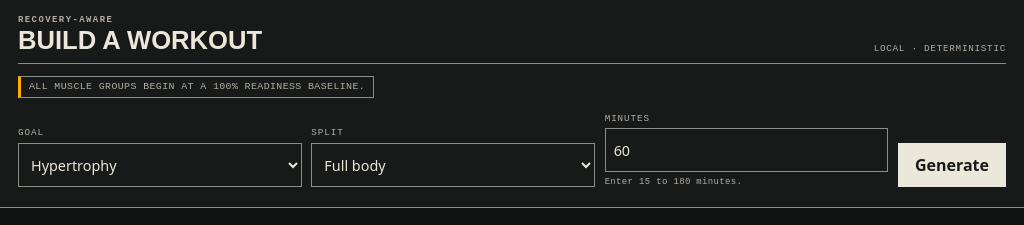
Test: GeneratorPanel duration input › can be cleared while editing and disables generation until a valid duration is entered
Clear the number field labelled "Minutes" at (746, 150), box [605,128,888,172]
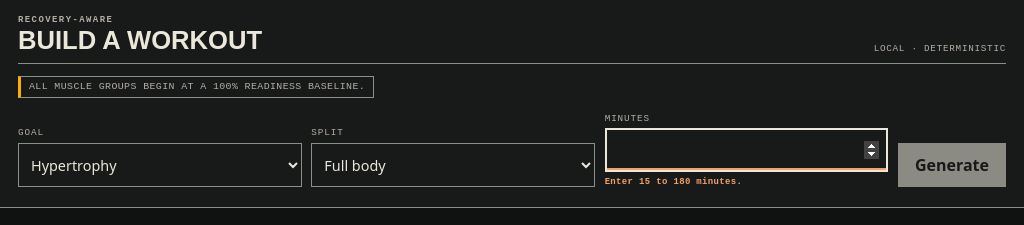
expect the button "Generate" is disabled: met, box [898,143,1006,187]
Type "30" into the number field labelled "Minutes".
click(746, 150); type("30")  # box [605,128,888,172]
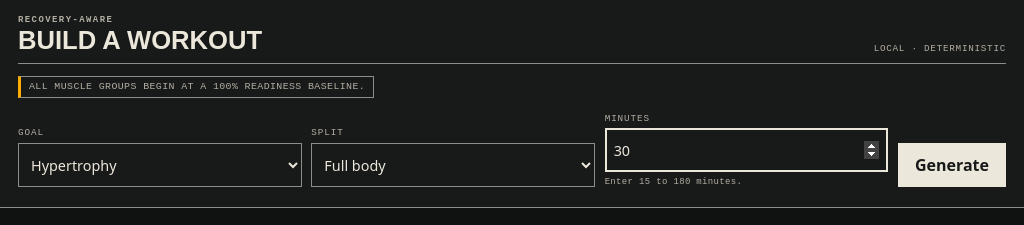
expect the button "Generate" is enabled: met, box [898,143,1006,187]
